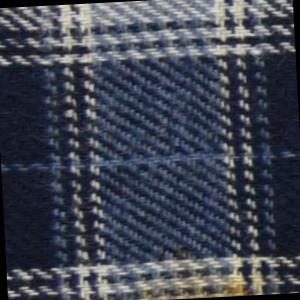Oil Stain: (133, 236, 276, 300)
